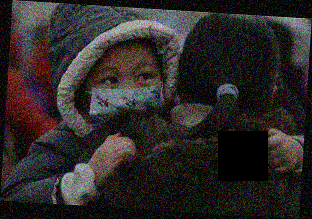with_mask: (88, 56, 167, 128)
